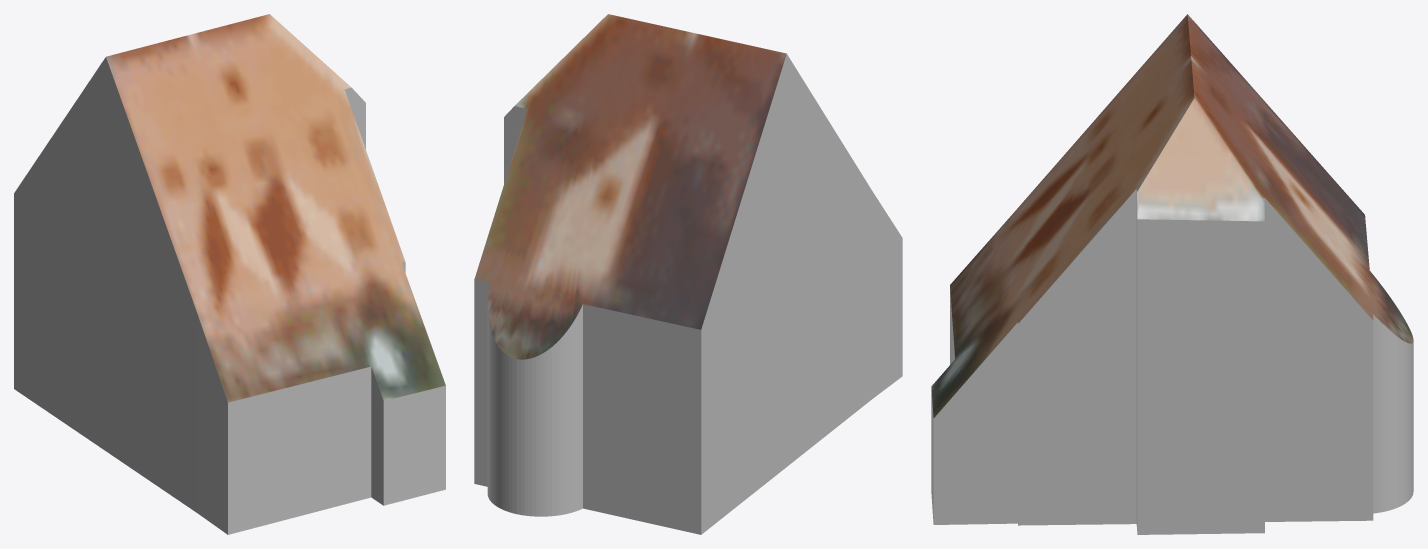
The model's file is DEBW_0010007Txc7.gltf.
3 views of the same model, side by side, from view 1: azimuth 30°, elevation 25°; view 2: azimuth 150°, elevation 25°; view 3: azimuth 270°, elevation 25° (orthographic). The views are drawn at different scales.
Parts seen in each view (by area): view 1: Z_UP; view 2: Z_UP; view 3: Z_UP.
Part boxes in pixels (x1=…): Z_UP: x1=14, y1=14, x2=445, y2=534; Z_UP: x1=474, y1=14, x2=902, y2=534; Z_UP: x1=931, y1=14, x2=1413, y2=534.
Bounding box in the file's own units: 10.79 × 16.9 × 18.3.
Materials: 2 (1 with a texture image).
